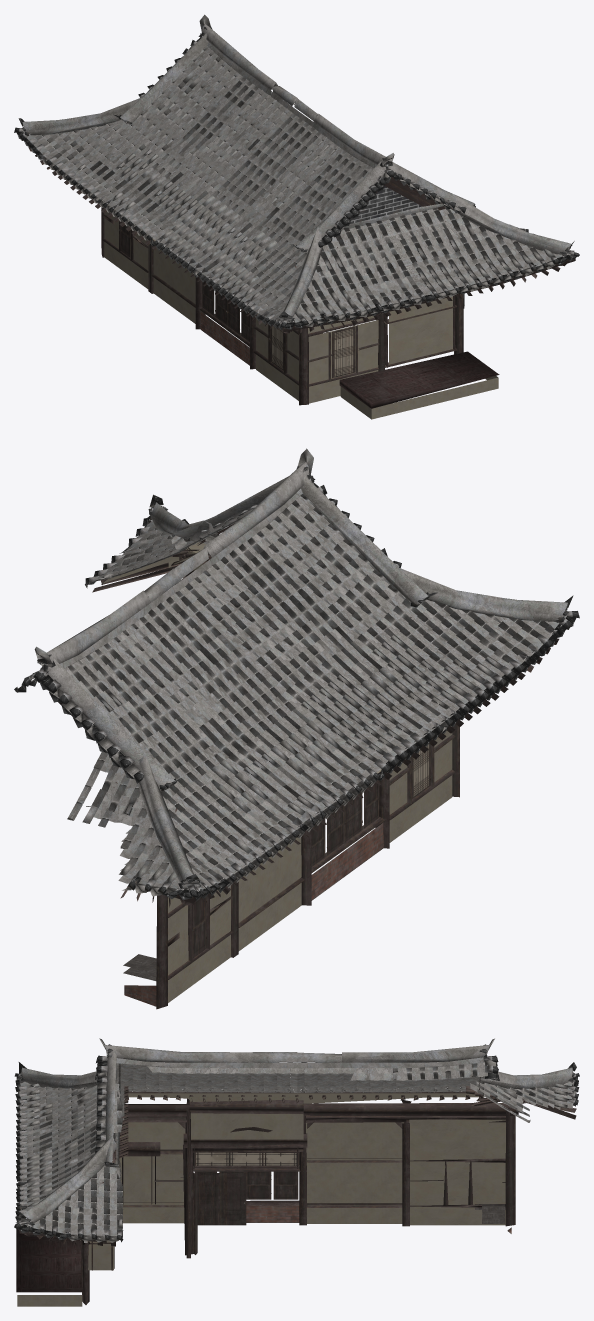
Rendered from gIENGLow!G.fbx.
The picture shows the model from 3 angles, top to bottom: view 1: azimuth 30°, elevation 25°; view 2: azimuth 150°, elevation 25°; view 3: azimuth 270°, elevation 25°; orthographic projection. The views are drawn at different scales.
Visible parts, largest first — view 1: Sarangchae; view 2: Sarangchae; view 3: Sarangchae.
Boxes of the visible parts, box(x1,y1,x2,y2) form: Sarangchae: box(14, 14, 579, 419); Sarangchae: box(14, 448, 579, 1009); Sarangchae: box(14, 1038, 579, 1306).
Size of the model in its own units: 1208 by 860 by 1881.
